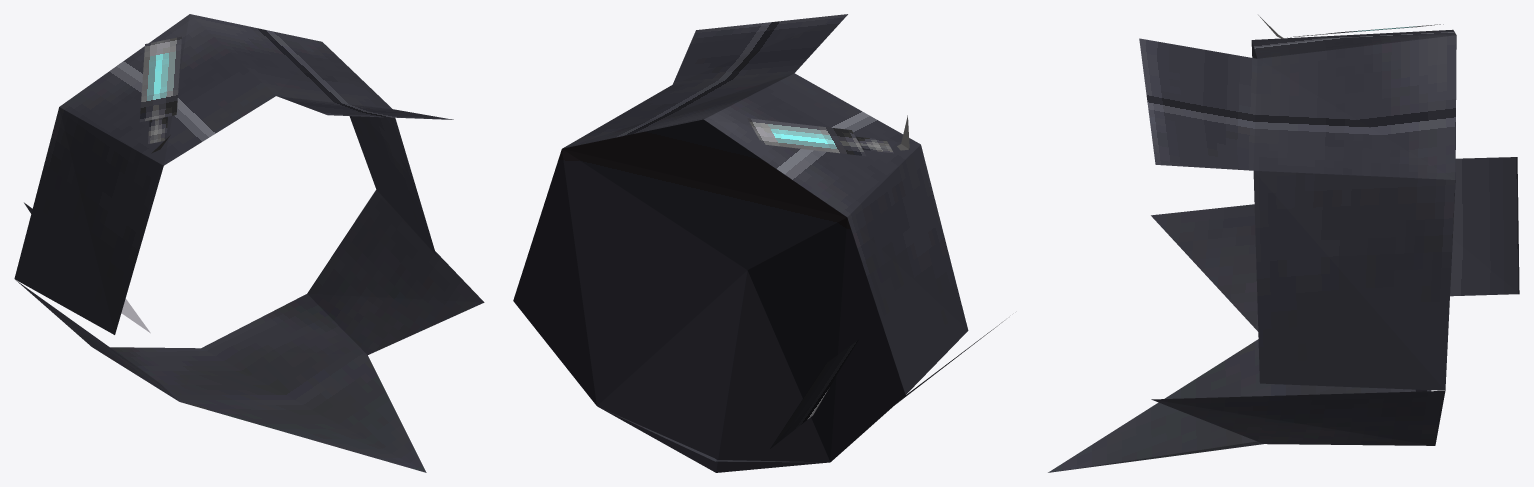
The model's file is kotone_n6.obj.
The picture shows the model from 3 angles, left to right: view 1: azimuth 30°, elevation 25°; view 2: azimuth 150°, elevation 25°; view 3: azimuth 270°, elevation 25°; orthographic projection. The views are drawn at different scales.
Size of the model in its own units: 0.2344 by 0.213 by 0.2262.
Materials: 4 (4 with a texture image).
